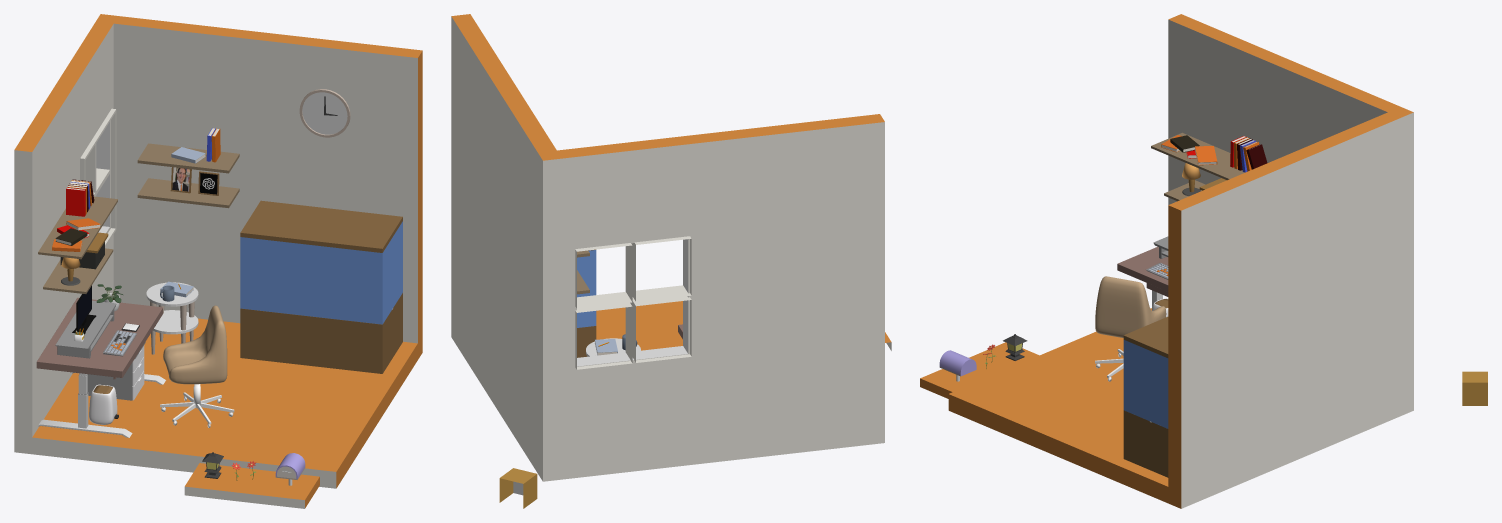
Rendered from house 2.1.2.glb.
The picture shows the model from 3 angles, left to right: view 1: azimuth 30°, elevation 25°; view 2: azimuth 150°, elevation 25°; view 3: azimuth 270°, elevation 25°; orthographic projection. The views are drawn at different scales.
Parts seen in each view (by area): view 1: Room, Fish Tank, Table Base, Shelf 1, Shelf 2, Garden Floor, Desk Content, Chair seat, Stool, Clock, Chair, Mailbox; view 2: Room, Fish Tank, Cube, Stool; view 3: Room, Fish Tank, Shelf 1, Chair seat, Garden Floor, Table Base, Cube, Mailbox.
Part boxes in pixels (x1,y1,x2,y2): Room: (14,14,422,488); Fish Tank: (240,200,402,373); Table Base: (36,297,165,437); Shelf 1: (38,179,117,293); Shelf 2: (137,128,239,208); Garden Floor: (184,461,319,508); Desk Content: (55,284,139,358); Chair seat: (163,305,227,384); Stool: (146,281,198,354); Clock: (299,89,350,137); Chair: (160,384,234,427); Mailbox: (275,453,305,485); Room: (451,14,884,481); Fish Tank: (577,249,596,357); Cube: (499,468,537,508); Stool: (586,334,640,356); Room: (948,14,1413,508); Fish Tank: (1123,316,1168,477); Shelf 1: (1151,132,1267,201); Chair seat: (1095,276,1166,337); Garden Floor: (920,342,1039,398); Table Base: (1117,246,1168,317); Cube: (1462,371,1487,405); Mailbox: (939,350,976,381).
Bounding box in the file's own units: 23.29 × 16.47 × 28.41.
Materials: 79 (3 with a texture image).
